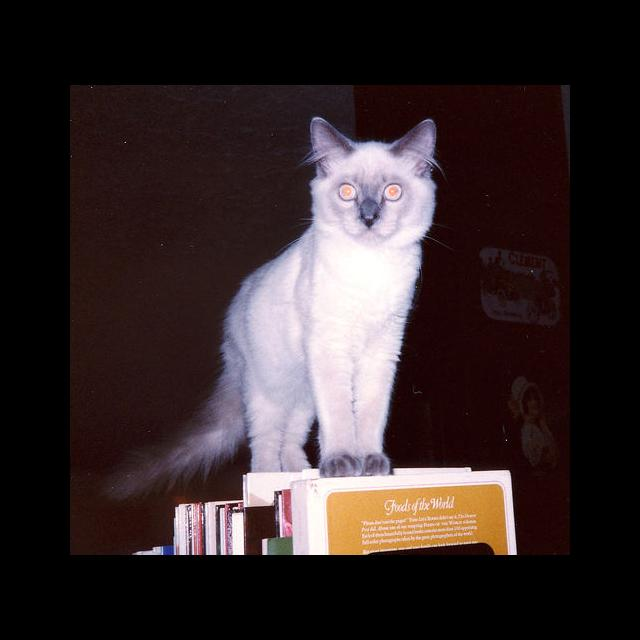animals: (317, 119, 430, 224)
